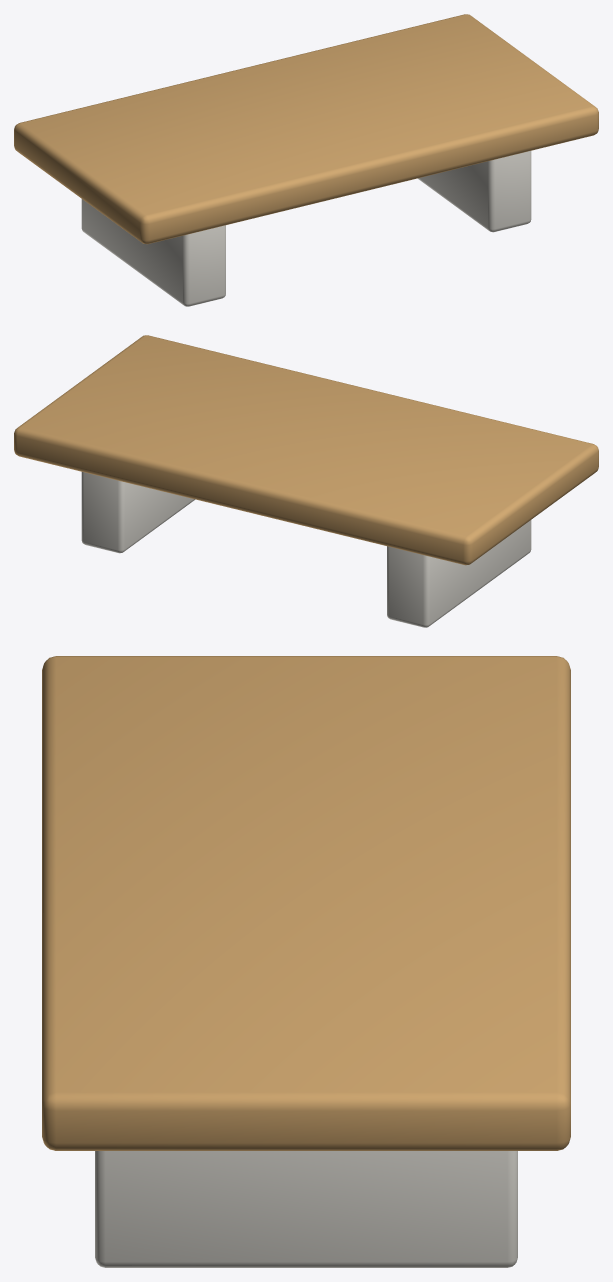
Rendered from furniture.statement.coffee_table_slab.glb.
3 views of the same model, one above another, from view 1: azimuth 30°, elevation 25°; view 2: azimuth 150°, elevation 25°; view 3: azimuth 270°, elevation 25° (orthographic). The views are drawn at different scales.
Parts seen in each view (by area): view 1: main__glulam, main__marble; view 2: main__glulam, main__marble; view 3: main__glulam, main__marble.
Part boxes in pixels (<box>): main__glulam: <box>14,14,598,244</box>; main__marble: <box>81,151,531,306</box>; main__glulam: <box>14,335,598,565</box>; main__marble: <box>81,472,531,627</box>; main__glulam: <box>42,656,570,1150</box>; main__marble: <box>95,1151,517,1267</box>.
Size of the model in its own units: 1.5 by 0.355 by 0.75.
